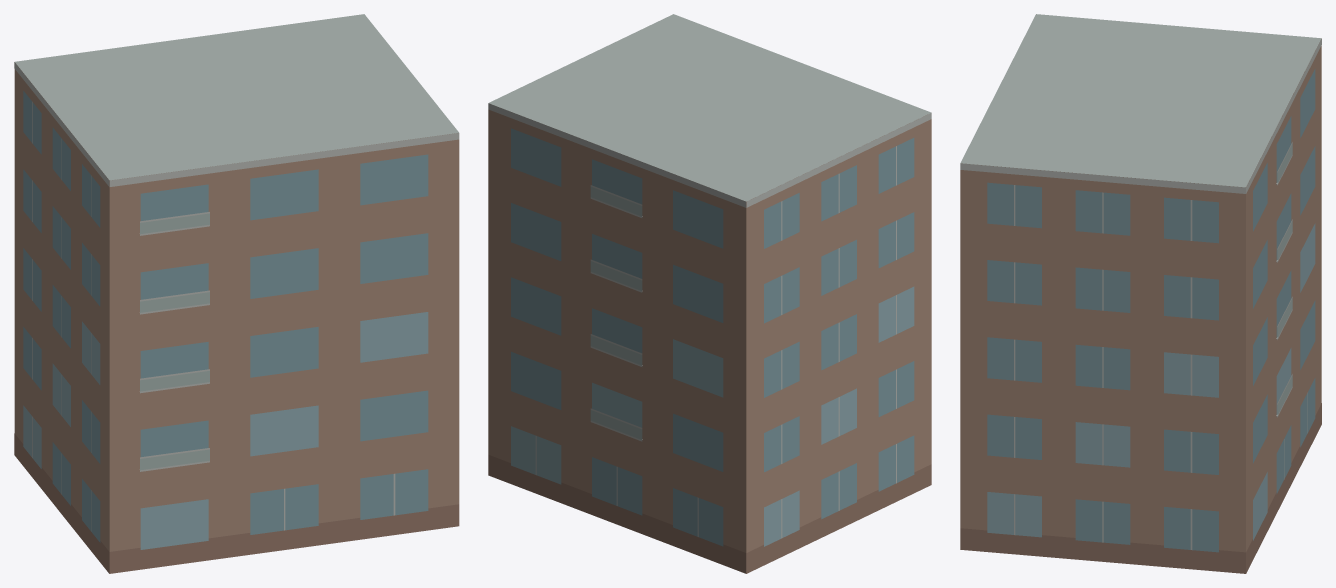
File: survey-upis-32663391.glb
The picture shows the model from 3 angles, left to right: view 1: azimuth 30°, elevation 25°; view 2: azimuth 150°, elevation 25°; view 3: azimuth 270°, elevation 25°; orthographic projection. The views are drawn at different scales.
Visible parts, largest first — view 1: survey-upis-32663391.tmp; view 2: survey-upis-32663391.tmp; view 3: survey-upis-32663391.tmp.
Boxes of the visible parts, x1,y1,x2,y2 form: survey-upis-32663391.tmp: [14, 14, 459, 573]; survey-upis-32663391.tmp: [488, 14, 931, 573]; survey-upis-32663391.tmp: [960, 14, 1321, 573].
Bounding box in the file's own units: 13.77 × 14.3 × 12.13.
